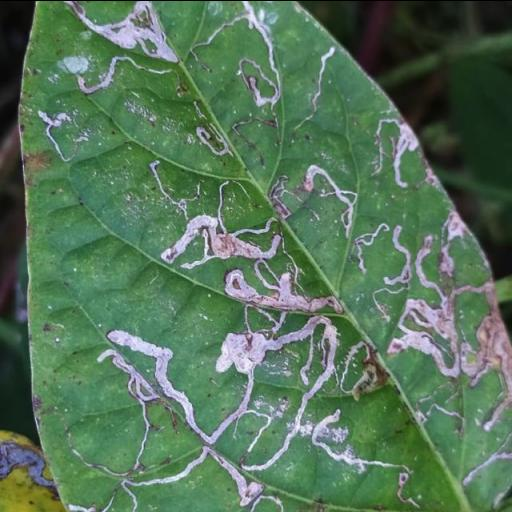disease_tomato: (19, 0, 512, 512)
